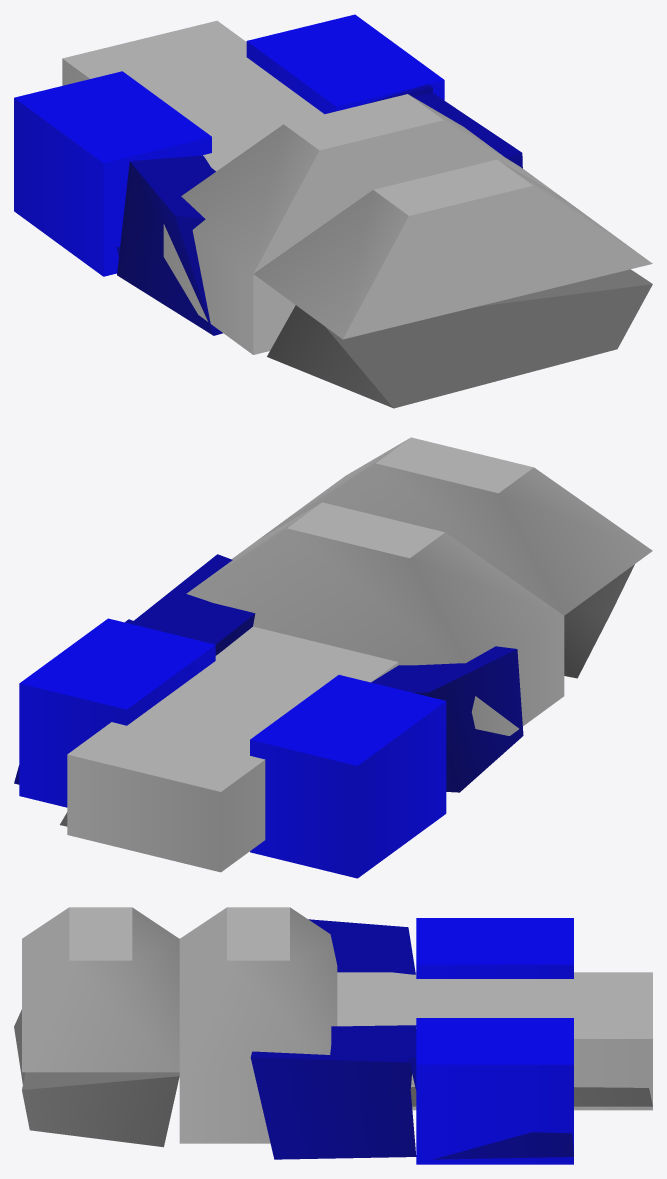
The model's file is hunter.glb.
3 views of the same model, one above another, from view 1: azimuth 30°, elevation 25°; view 2: azimuth 150°, elevation 25°; view 3: azimuth 270°, elevation 25° (orthographic). The views are drawn at different scales.
Visible parts, largest first — view 1: muzzle, damage-00, damage-05, damage-02, damage-04, damage-03; view 2: muzzle, damage-02, damage-00, damage-05, damage-04, damage-03; view 3: muzzle, damage-00, damage-04, damage-02, damage-05, damage-03.
Boxes of the visible parts, left/top/right/bottom form: muzzle: left=117, top=93, right=652, bottom=408; damage-00: left=116, top=84, right=560, bottom=273; damage-05: left=14, top=71, right=211, bottom=276; damage-02: left=62, top=20, right=323, bottom=171; damage-04: left=246, top=14, right=444, bottom=114; damage-03: left=163, top=224, right=295, bottom=354; muzzle: left=134, top=437, right=652, bottom=792; damage-02: left=67, top=626, right=398, bottom=872; damage-00: left=14, top=502, right=563, bottom=826; damage-05: left=250, top=675, right=446, bottom=878; damage-04: left=19, top=618, right=215, bottom=807; damage-03: left=398, top=616, right=564, bottom=735; muzzle: left=14, top=907, right=416, bottom=1159; damage-00: left=179, top=907, right=652, bottom=1159; damage-04: left=416, top=1018, right=573, bottom=1164; damage-02: left=337, top=972, right=652, bottom=1110; damage-05: left=416, top=918, right=573, bottom=978; damage-03: left=179, top=1072, right=270, bottom=1143.
Size of the model in its own units: 0.447 by 0.227 by 0.81.
